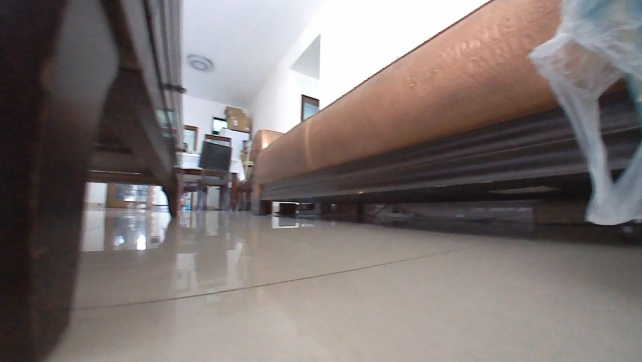sofa: (244, 0, 641, 219)
tea_table1: (0, 0, 199, 361)
